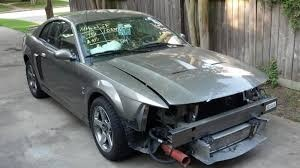Broken-glass: (139, 104, 194, 130), (243, 83, 269, 105)
Smashed: (124, 76, 276, 163)
